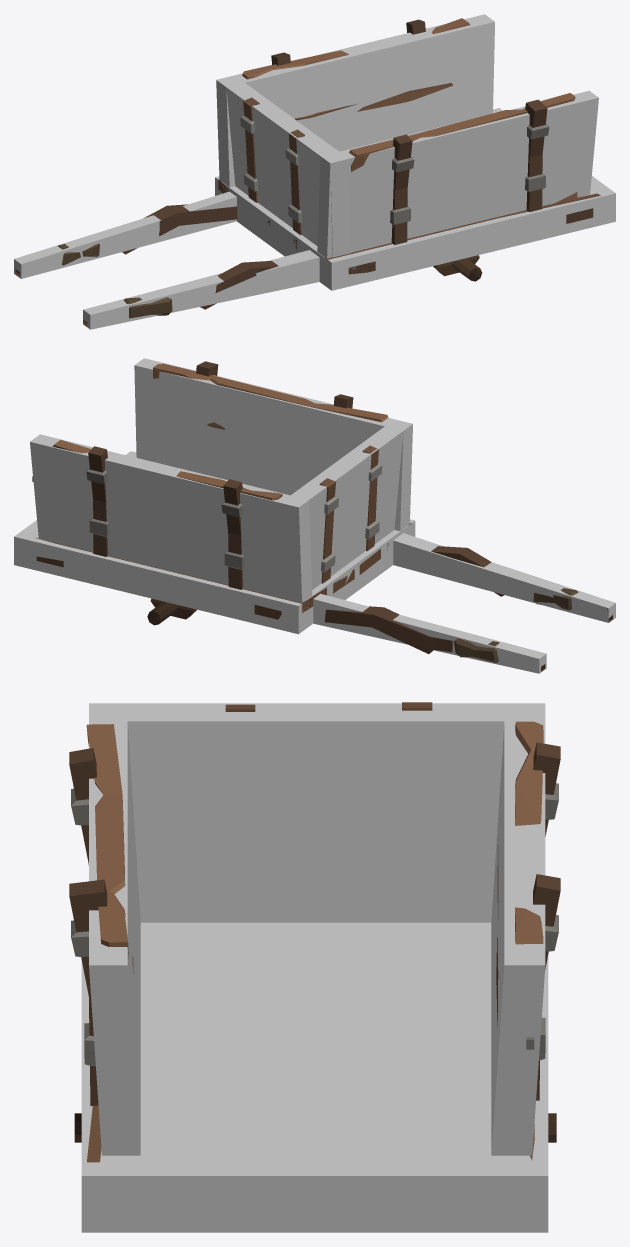
The model's file is SM_Veh_Cart_02.fbx.
The picture shows the model from 3 angles, top to bottom: view 1: azimuth 30°, elevation 25°; view 2: azimuth 150°, elevation 25°; view 3: azimuth 270°, elevation 25°; orthographic projection. The views are drawn at different scales.
Parts seen in each view (by area): view 1: SM_Veh_Cart_02_ConvexHulls, SM_Veh_Cart_02; view 2: SM_Veh_Cart_02_ConvexHulls, SM_Veh_Cart_02; view 3: SM_Veh_Cart_02_ConvexHulls, SM_Veh_Cart_02.
Part boxes in pixels (x1=…): SM_Veh_Cart_02_ConvexHulls: x1=14, y1=14, x2=615, y2=329; SM_Veh_Cart_02: x1=15, y1=18, x2=600, y2=326; SM_Veh_Cart_02_ConvexHulls: x1=14, y1=358, x2=615, y2=673; SM_Veh_Cart_02: x1=32, y1=361, x2=613, y2=671; SM_Veh_Cart_02_ConvexHulls: x1=81, y1=703, x2=548, y2=1232; SM_Veh_Cart_02: x1=69, y1=702, x2=560, y2=1162.
Bounding box in the file's own units: 319 × 134 × 98.76.
Materials: 2 (1 with a texture image).
